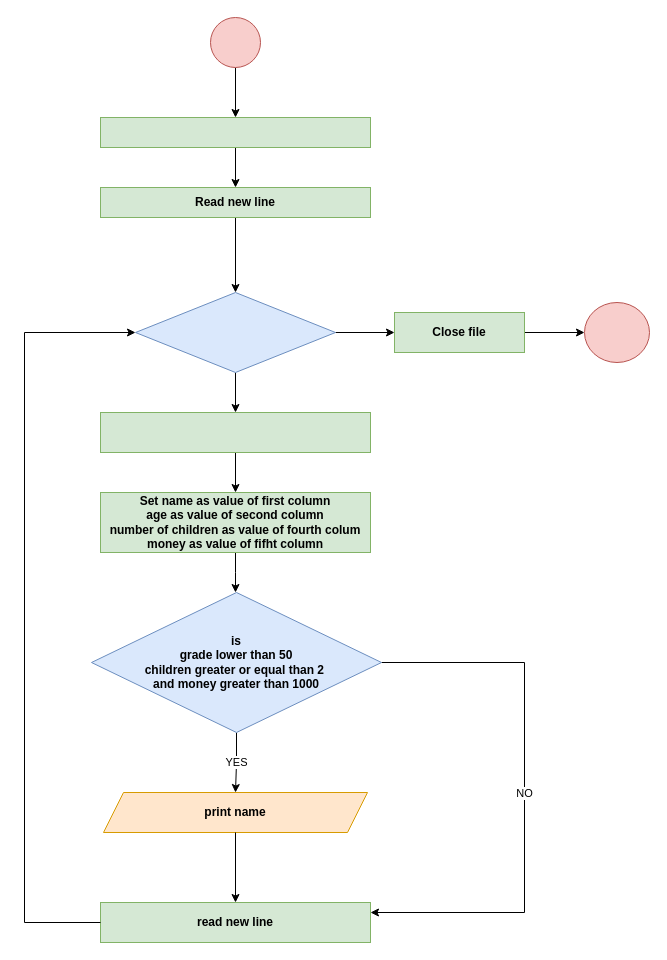
The diagram is 667 pixels wide and 960 high, and some of its shapes have lost their labels. The shapes that lost their labels are listed below. From the top down, each one's centre as x and y in pixels, then its label:
At (x=235, y=132): "Open file".
At (x=235, y=332): "While new line exists in file".
At (x=235, y=432): "Split line into columns".
